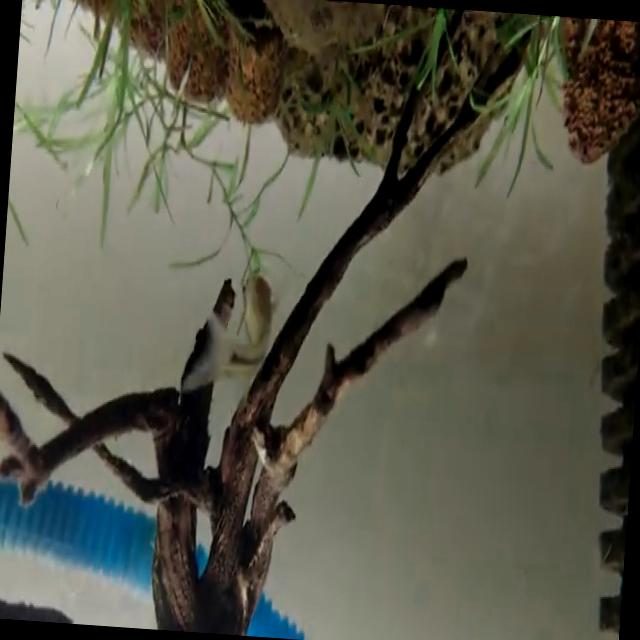Cakil Baligi: (187, 248, 288, 421)
